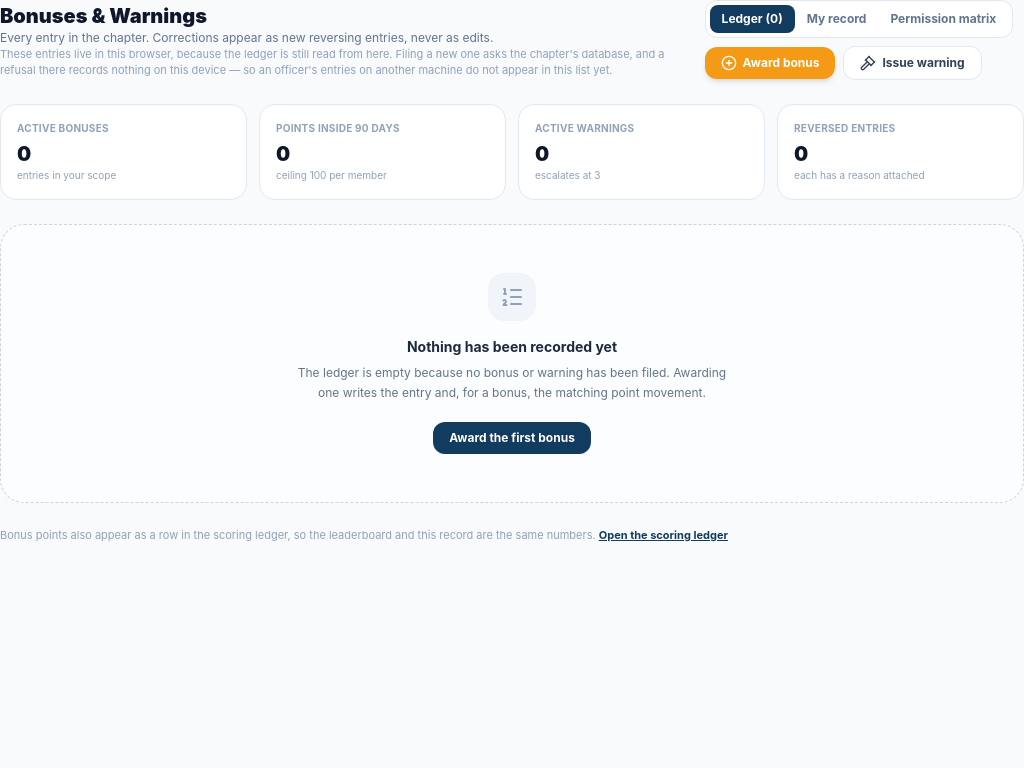
awarding from the screen › records a bonus through the form and writes the point movement with it
The width and height of the screenshot is (1024, 768).
Expected: the heading "Bonuses & Warnings" is shown, [0, 4, 207, 28]
Click the button "Award bonus": (770, 63) [705, 47, 836, 79]
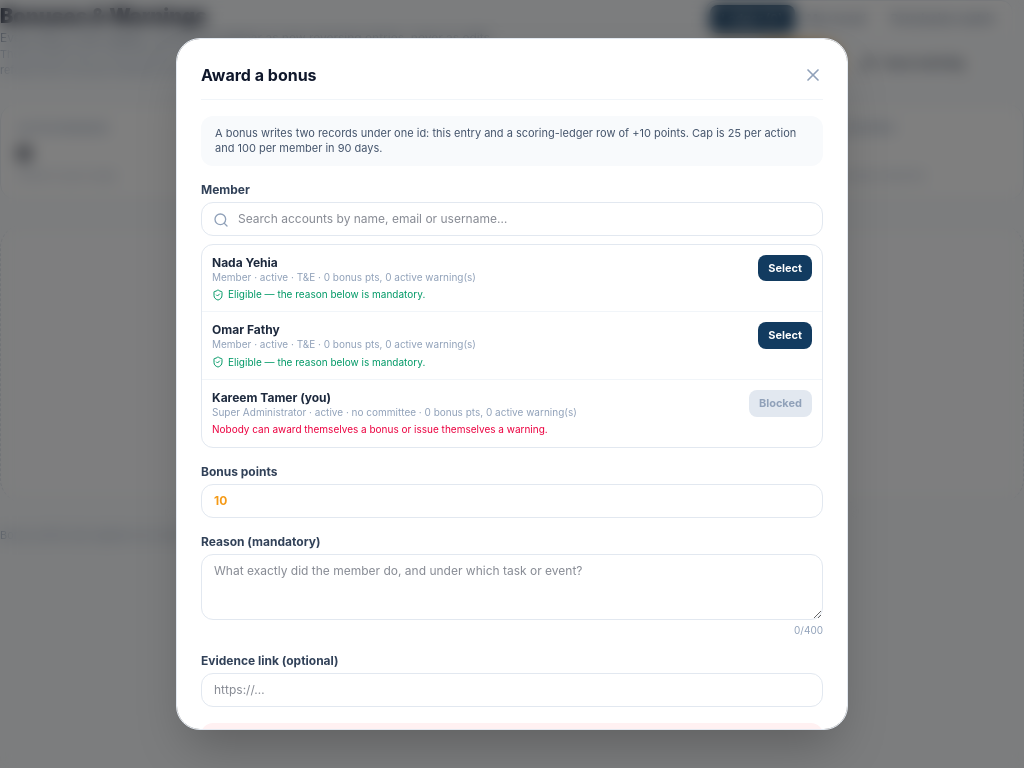
In the search field named "Search accounts to record this entry against": (512, 219) [201, 202, 823, 236], type "Nada"
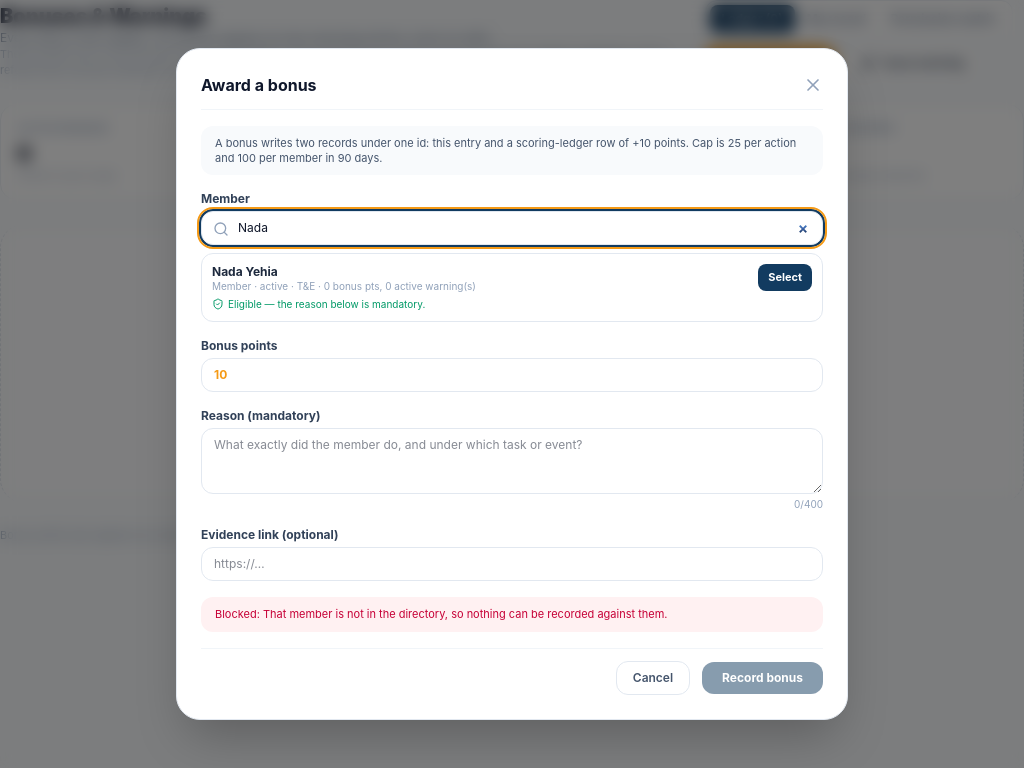
Click the button with aria-label "Select Nada Yehia": (785, 278) [758, 264, 812, 291]
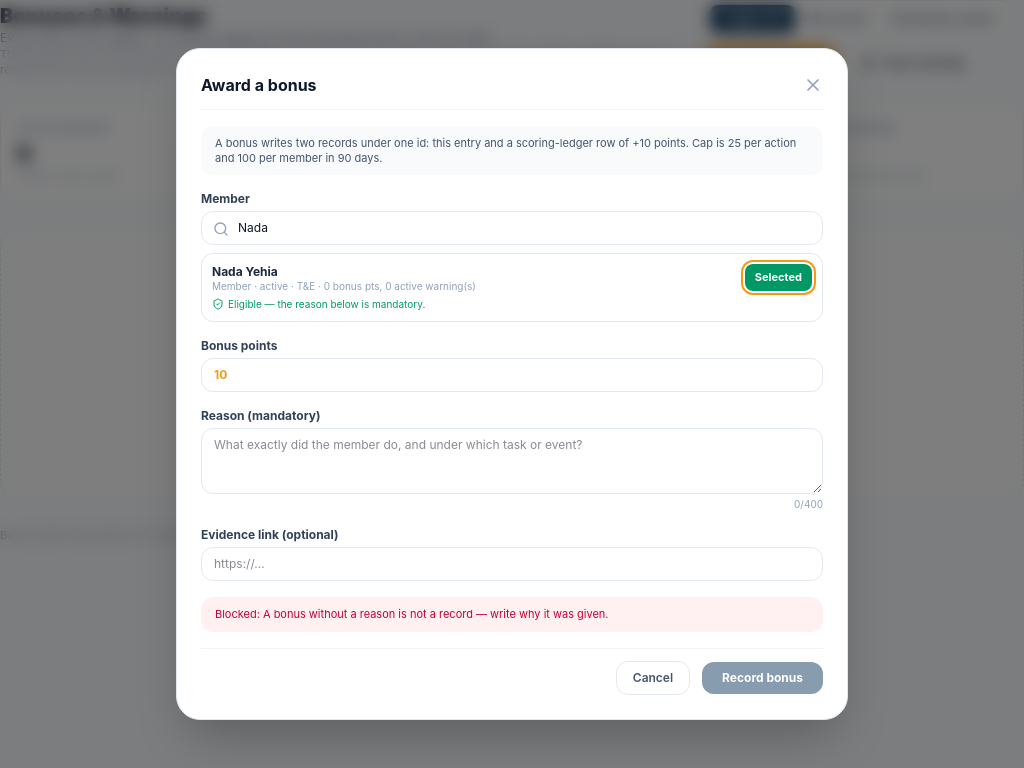
Replace the text in the number field labelled "Bonus points" with "15": (512, 375) [201, 358, 823, 392]
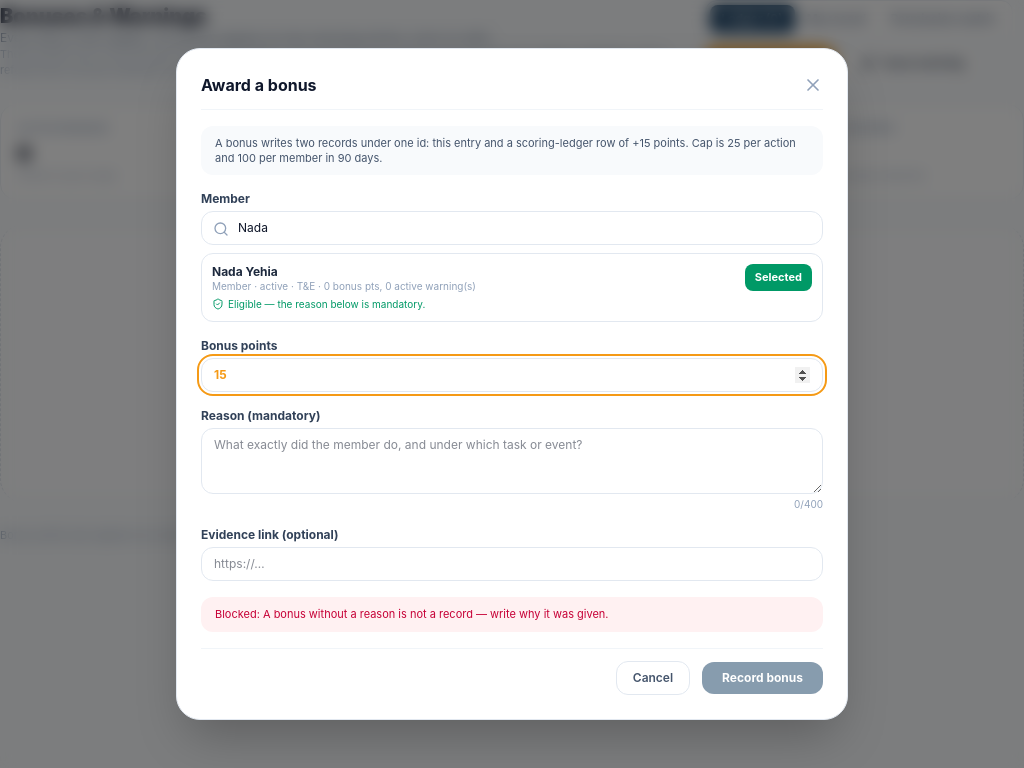
In the text box labelled "Reason (mandatory)": (512, 461) [201, 428, 823, 494], type "Ran the NDT workshop for the first-year cohort"
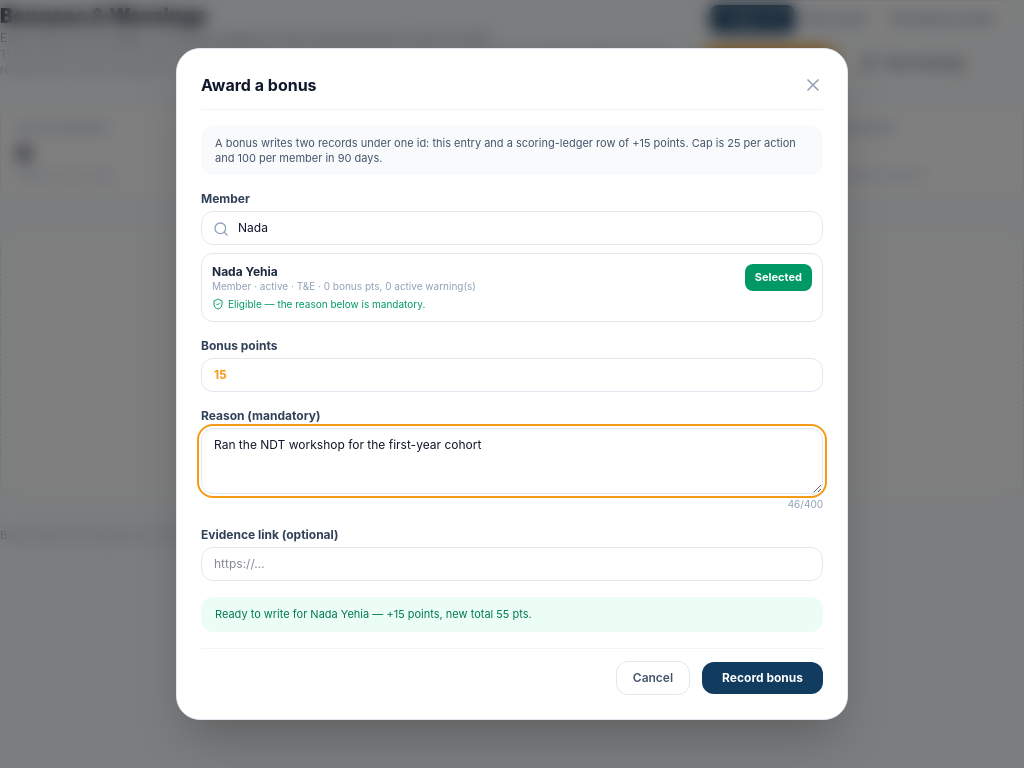
Now the text "Ready to write for Nada Yehia" is shown, box [201, 597, 823, 632]
Click the button "Record bonus": (763, 678) [702, 662, 823, 694]
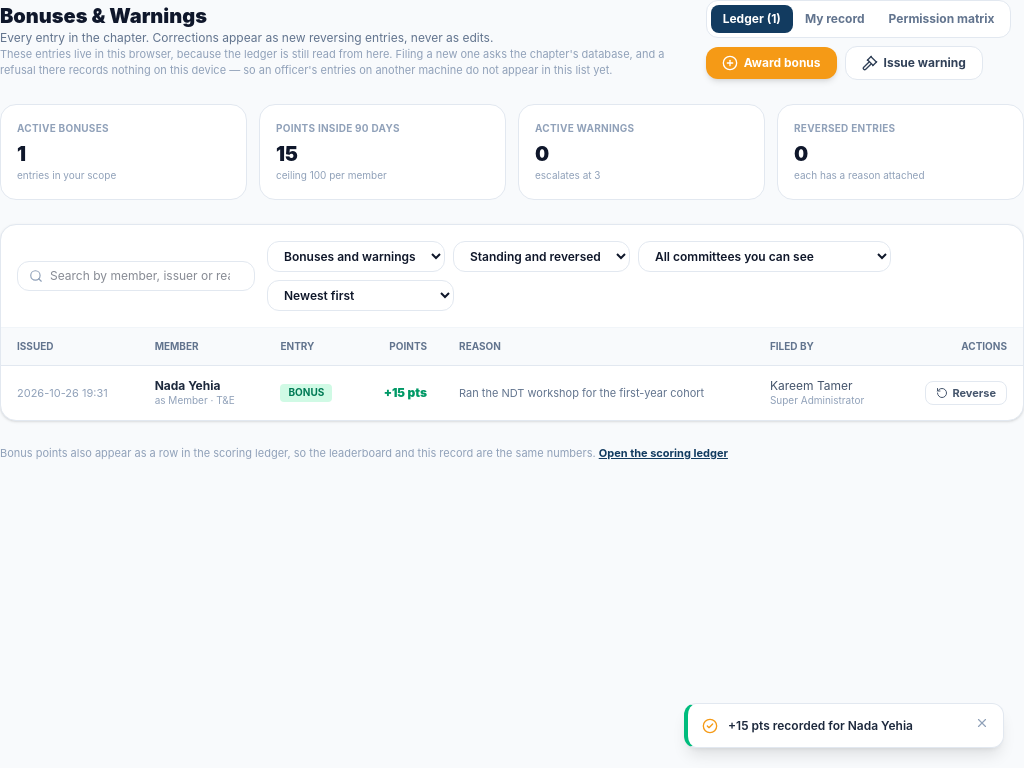
Now the text "+15 pts" is shown, box [358, 366, 443, 420]
Now the button "Ledger (1)" is shown, box [711, 5, 793, 33]
